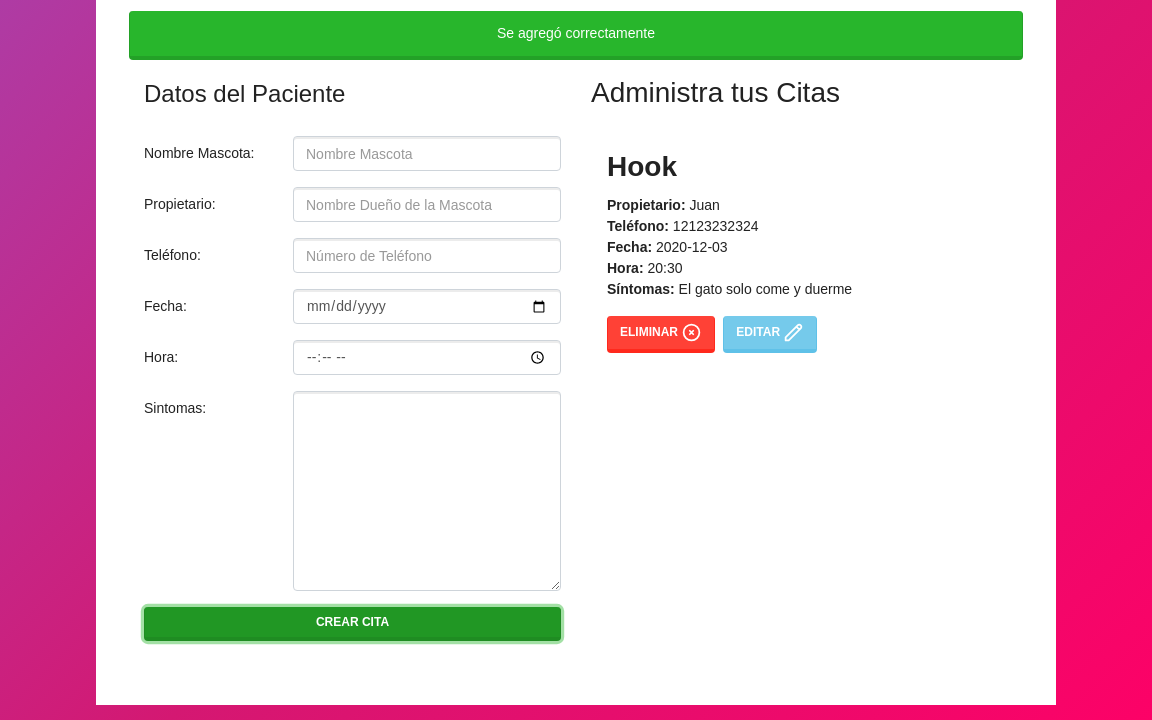
Test case: Lennar los campos para una nueva cita y la elimina › Eliminar una Cita
(page scrolled)
Click the button with test id "btn-eliminar": [661, 335] box left=607, top=316, right=715, bottom=353
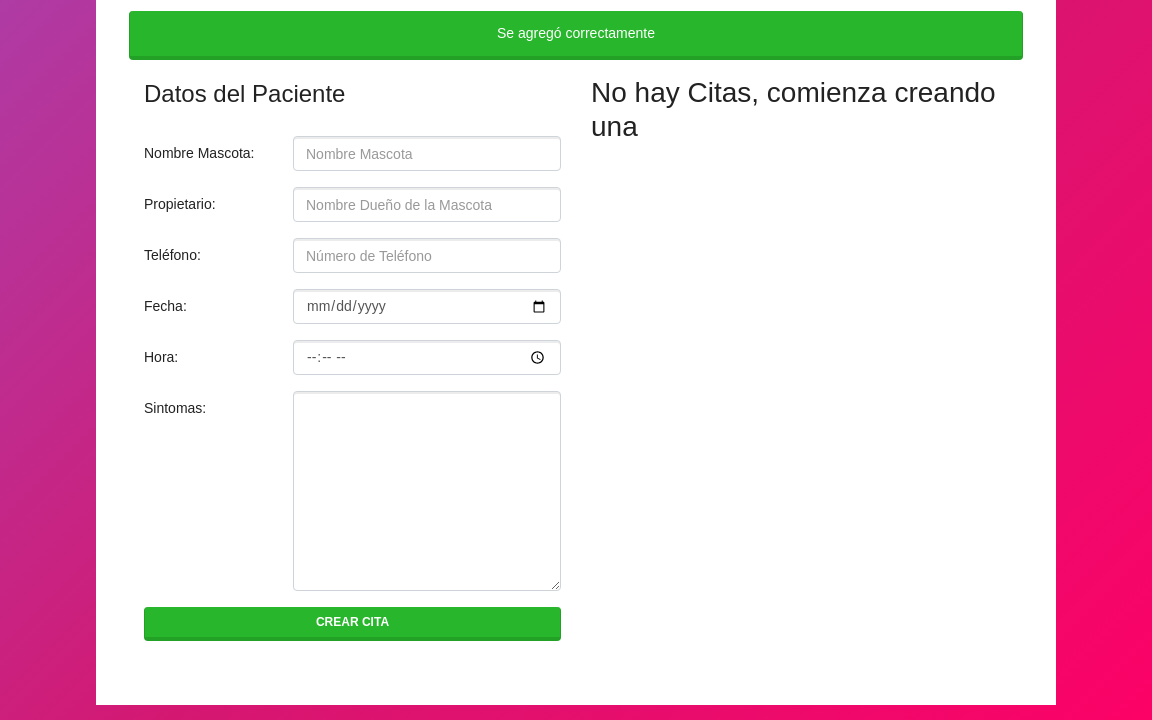
expect the heading with test id "citas-heading" reads "No hay Citas, comienza creando una": met, box left=591, top=76, right=1008, bottom=143
